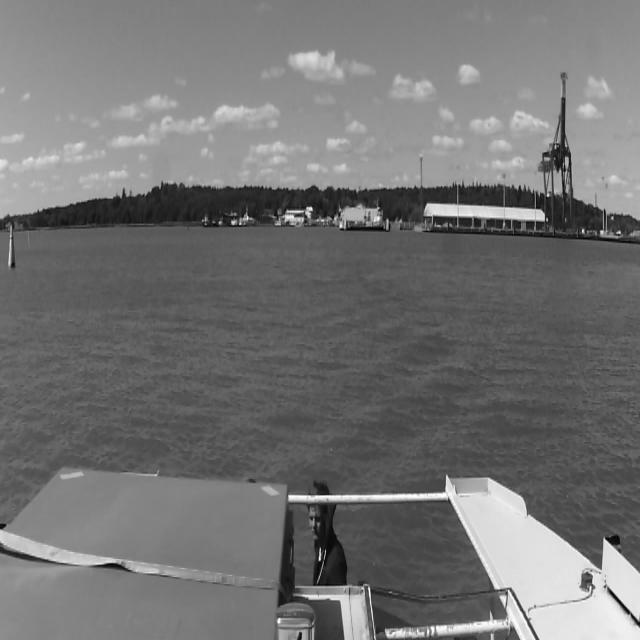buoy: (8, 224, 16, 267), (26, 231, 31, 250), (185, 220, 189, 233)
ship: (240, 213, 256, 227), (200, 210, 212, 226), (229, 216, 237, 227)
